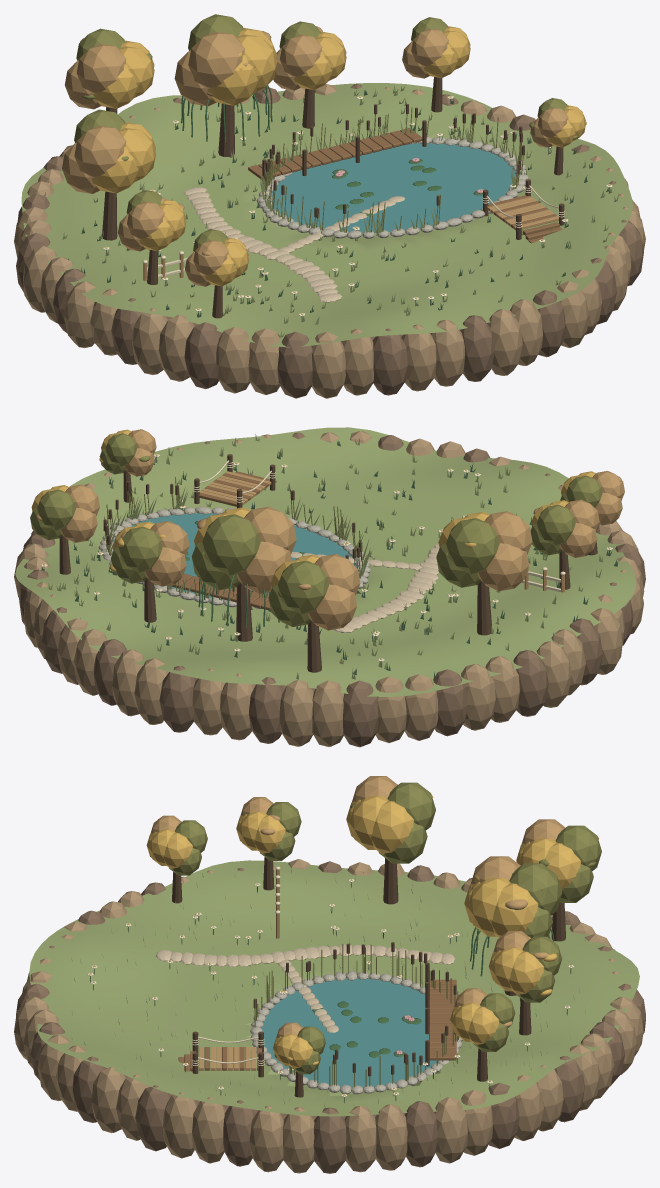
Rendered from wetland-K3w2uuKb.glb.
The picture shows the model from 3 angles, top to bottom: view 1: azimuth 30°, elevation 25°; view 2: azimuth 150°, elevation 25°; view 3: azimuth 270°, elevation 25°; orthographic projection.
Visible parts, largest first — view 1: Environment_grasslight, Environment_cliff, Environment_woodlight, Environment_earth, Lake_surface, Environment_ochre, Environment_reed, Environment_wooddark, Environment_path, Environment_wood, Environment_stone, Environment_grassdark (+3 smaller); view 2: Environment_grasslight, Environment_cliff, Environment_reed, Environment_woodlight, Environment_earth, Environment_wooddark, Environment_ochre, Environment_path, Environment_stone, Lake_surface, Environment_grassdark, Environment_wood (+3 smaller); view 3: Environment_grasslight, Environment_cliff, Environment_ochre, Environment_earth, Environment_reed, Lake_surface, Environment_woodlight, Environment_wooddark, Environment_path, Environment_stone, Environment_wood, Environment_leafdark (+2 smaller).
Part boxes in pixels (x1=…): Environment_grasslight: x1=21, y1=83, x2=632, y2=347; Environment_cliff: x1=14, y1=84, x2=645, y2=398; Environment_woodlight: x1=62, y1=26, x2=568, y2=286; Environment_earth: x1=16, y1=84, x2=643, y2=398; Lake_surface: x1=271, y1=143, x2=516, y2=233; Environment_ochre: x1=92, y1=26, x2=610, y2=314; Environment_reed: x1=74, y1=14, x2=577, y2=270; Environment_wooddark: x1=102, y1=77, x2=564, y2=318; Environment_path: x1=183, y1=187, x2=404, y2=302; Environment_wood: x1=248, y1=128, x2=562, y2=243; Environment_stone: x1=256, y1=136, x2=528, y2=238; Environment_grassdark: x1=44, y1=90, x2=609, y2=321; Environment_grasslight: x1=15, y1=427, x2=636, y2=696; Environment_cliff: x1=14, y1=431, x2=644, y2=746; Environment_reed: x1=30, y1=433, x2=602, y2=626; Environment_woodlight: x1=36, y1=429, x2=624, y2=630; Environment_earth: x1=19, y1=432, x2=645, y2=747; Environment_wooddark: x1=59, y1=454, x2=597, y2=672; Environment_ochre: x1=31, y1=429, x2=610, y2=659; Environment_path: x1=291, y1=544, x2=439, y2=632; Environment_stone: x1=98, y1=506, x2=370, y2=608; Lake_surface: x1=113, y1=513, x2=356, y2=599; Environment_grassdark: x1=41, y1=441, x2=618, y2=679; Environment_wood: x1=169, y1=471, x2=276, y2=610; Environment_grasslight: x1=29, y1=860, x2=639, y2=1116; Environment_cliff: x1=14, y1=859, x2=643, y2=1173; Environment_ochre: x1=89, y1=794, x2=580, y2=1095; Environment_earth: x1=16, y1=861, x2=645, y2=1173; Environment_reed: x1=149, y1=782, x2=601, y2=1087; Lake_surface: x1=261, y1=978, x2=437, y2=1087; Environment_woodlight: x1=151, y1=776, x2=598, y2=1070; Environment_wooddark: x1=172, y1=857, x2=565, y2=1097; Environment_path: x1=156, y1=944, x2=455, y2=1032; Environment_stone: x1=250, y1=971, x2=462, y2=1094; Environment_wood: x1=178, y1=979, x2=456, y2=1071; Environment_leafdark: x1=312, y1=927, x2=554, y2=1057.
Bounding box in the file's own units: 20.61 × 6.59 × 20.7.
